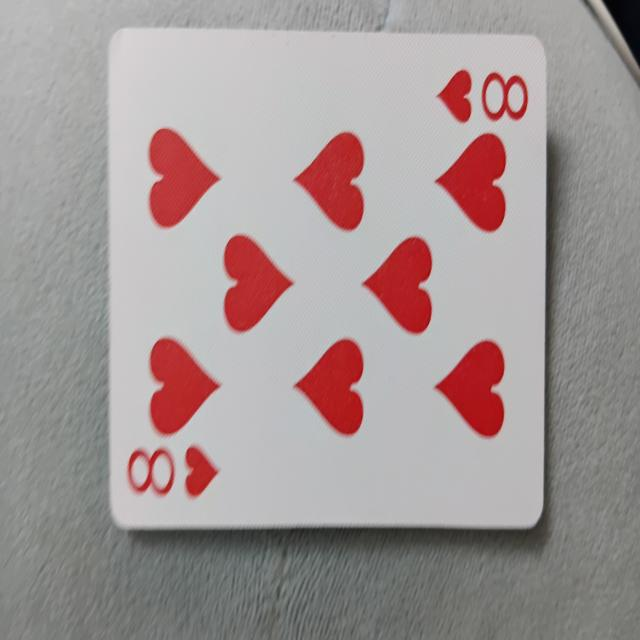8H: (105, 25, 548, 532)
